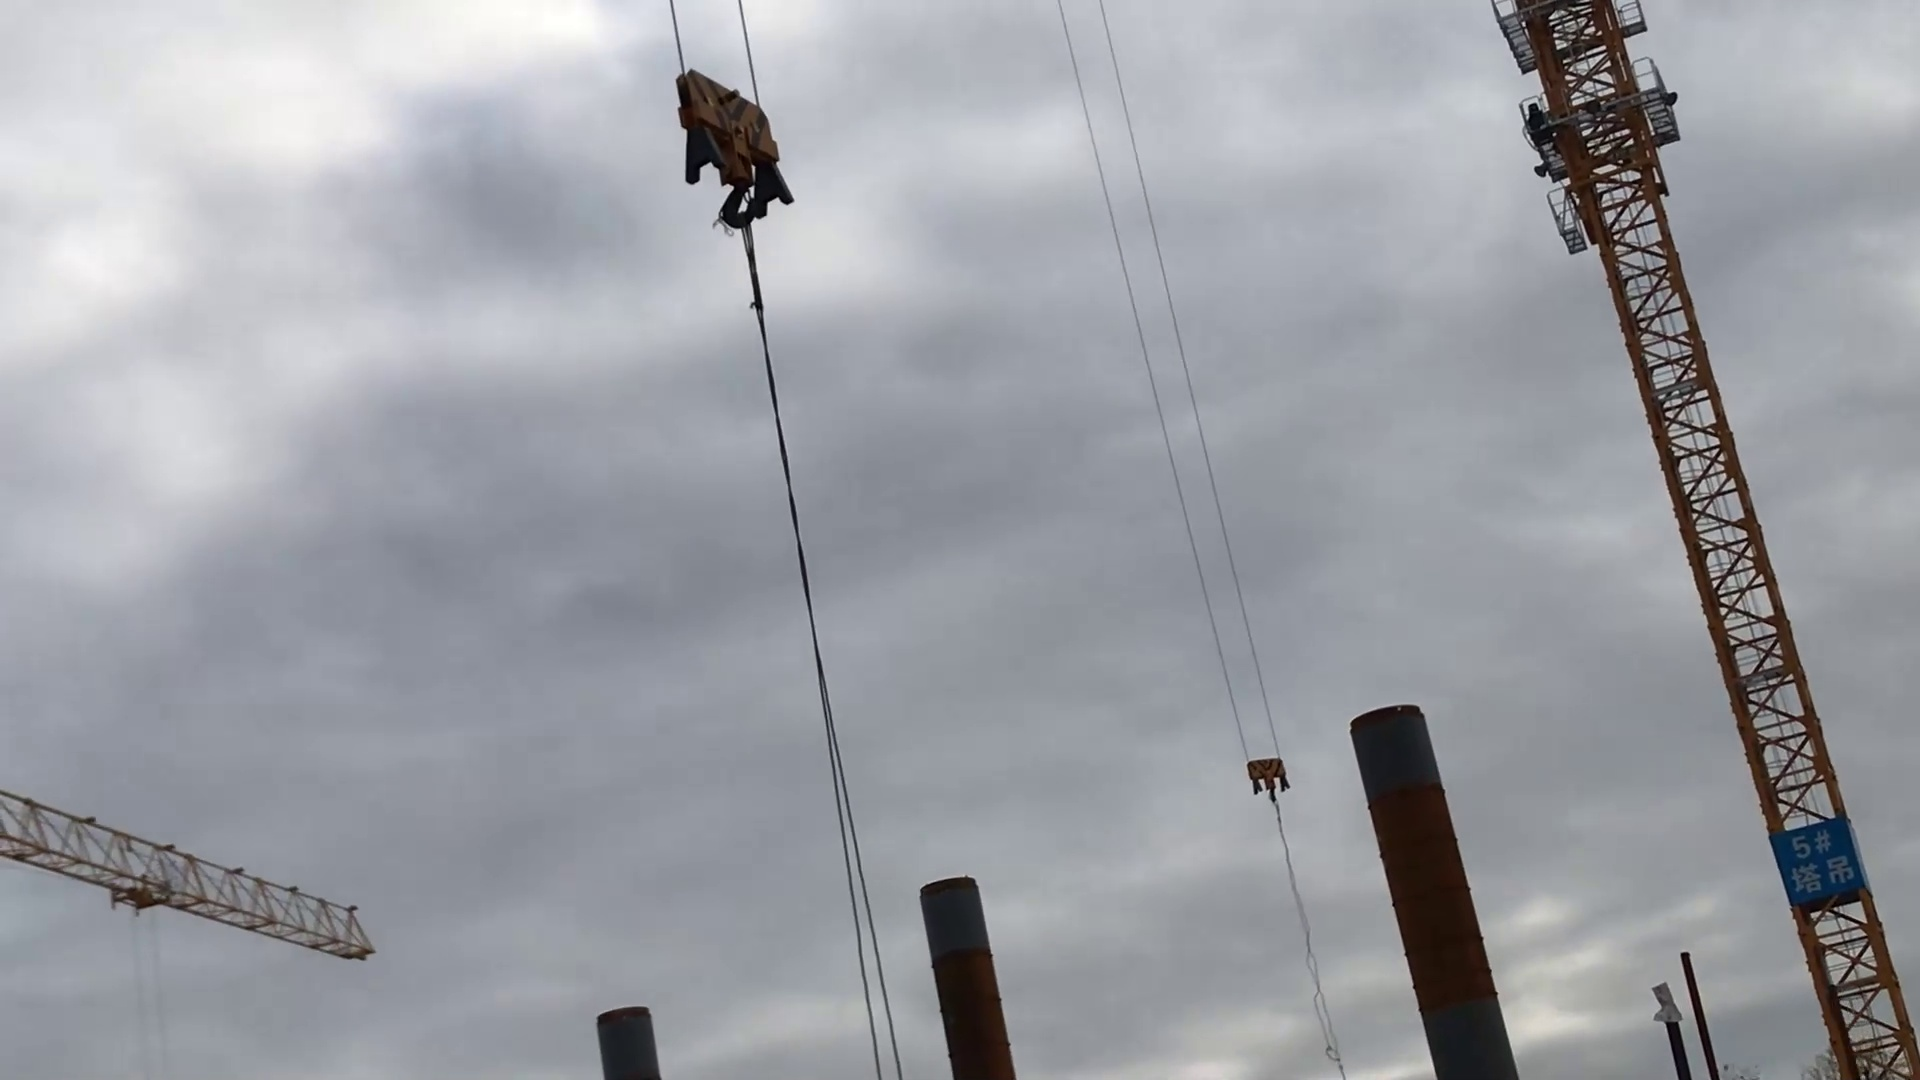hook: (683, 65, 785, 229), (1242, 756, 1291, 796)
